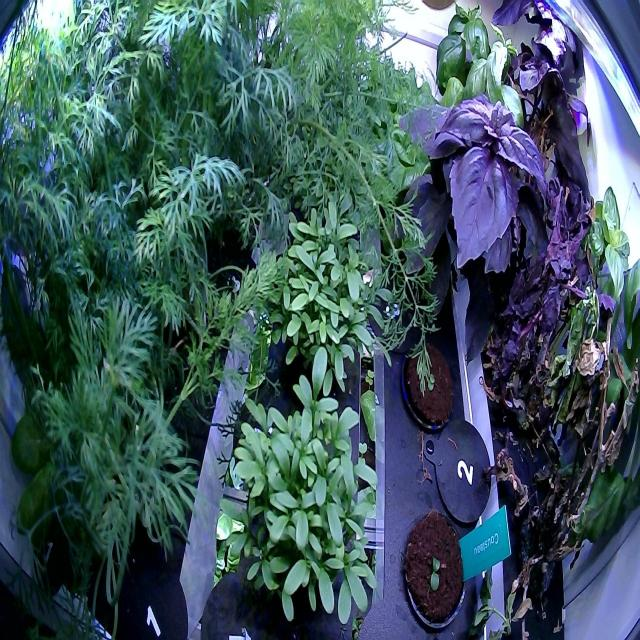Ready: (362, 64, 464, 198)
germination: (397, 500, 471, 634), (394, 330, 460, 434)
